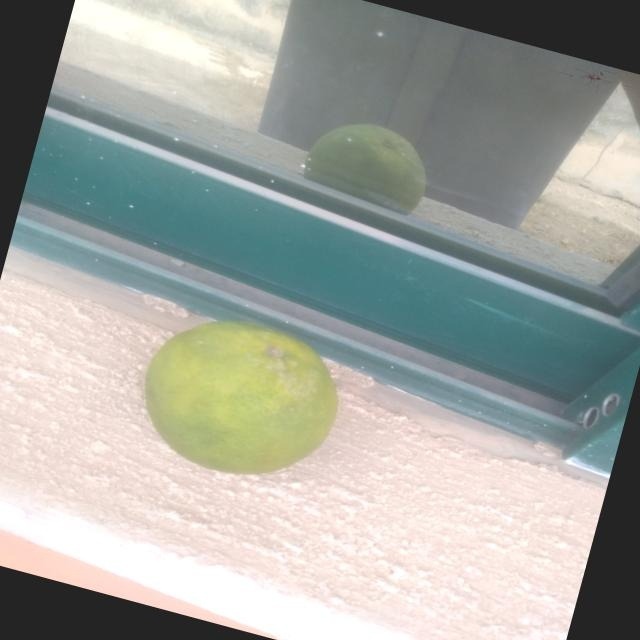agrume: (88, 271, 384, 517)
